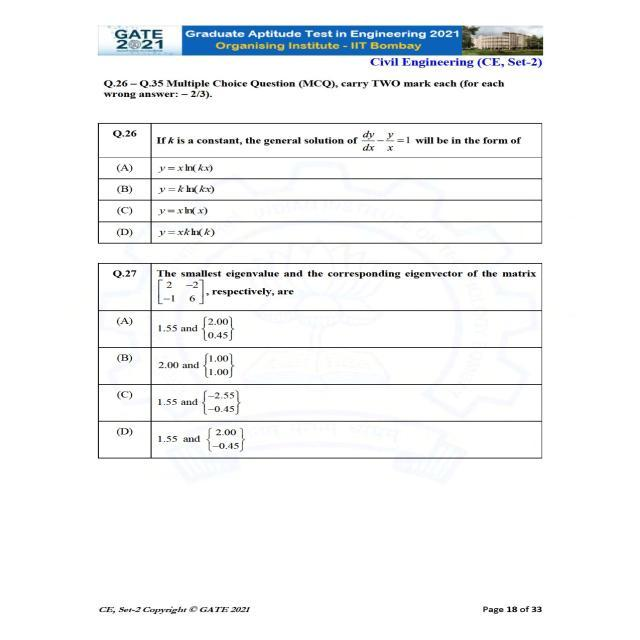Answer_Block: (53, 312, 586, 459), (51, 158, 582, 245)
Question_Answer_Block: (53, 264, 586, 460), (51, 116, 582, 246)
Question_Block: (53, 264, 586, 312), (51, 116, 582, 159)
Question_Paper_Area: (53, 71, 586, 508)
